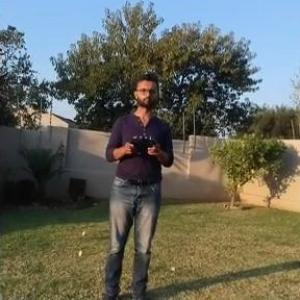follow: (100, 69, 183, 299)
